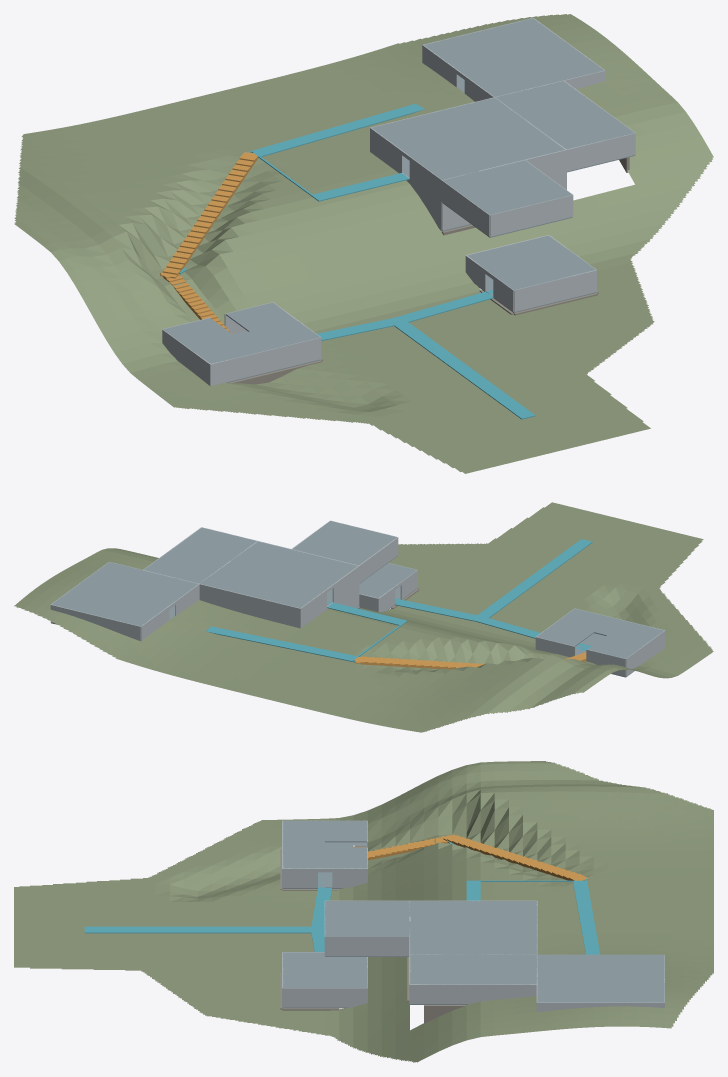
File: benched-terrain.glb
The picture shows the model from 3 angles, top to bottom: view 1: azimuth 30°, elevation 25°; view 2: azimuth 150°, elevation 25°; view 3: azimuth 270°, elevation 25°; orthographic projection. The views are drawn at different scales.
Parts seen in each view (by area): view 1: Saved editor stair bench terrain WLD-03, Ceiling cap gallery, Ceiling cap chamber, Ceiling cap fork, Ceiling cap alcove, Ceiling cap wash, Wall shelter S, Wall wash S, Wall alcove S, L12 support 0, Wall fork S, Ceiling cap shelter.003 (+12 smaller); view 2: Saved editor stair bench terrain WLD-03, Ceiling cap gallery, Ceiling cap chamber, Ceiling cap fork, Ceiling cap alcove, Wall gallery N, L12 support 0, Ceiling cap wash, Opened stair shell Wall shelter N, Wall chamber N, Ceiling cap shelter.003, Ceiling cap shelter.004 (+13 smaller); view 3: Saved editor stair bench terrain WLD-03, Ceiling cap gallery, Ceiling cap chamber, Ceiling cap fork, Ceiling cap alcove, Ceiling cap wash, Wall fork E, Wall alcove E, Wall wash E, L12 support 0, Ceiling cap shelter, Ceiling cap shelter.001 (+8 smaller).
Boxes of the visible parts, <box> form: Saved editor stair bench terrain WLD-03: <box>14,14,713,473</box>; Ceiling cap gallery: <box>371,97,564,179</box>; Ceiling cap chamber: <box>424,18,604,96</box>; Ceiling cap fork: <box>495,80,634,149</box>; Ceiling cap alcove: <box>443,160,572,214</box>; Ceiling cap wash: <box>467,235,595,290</box>; Wall shelter S: <box>210,337,320,385</box>; Wall wash S: <box>514,270,596,311</box>; Wall alcove S: <box>490,195,572,236</box>; L12 support 0: <box>246,103,424,156</box>; Wall fork S: <box>566,133,635,171</box>; Ceiling cap shelter.003: <box>226,302,296,331</box>; Saved editor stair bench terrain WLD-03: <box>14,502,713,732</box>; Ceiling cap gallery: <box>200,541,357,608</box>; Ceiling cap chamber: <box>51,562,197,626</box>; Ceiling cap fork: <box>144,527,256,583</box>; Ceiling cap alcove: <box>292,521,396,565</box>; Wall gallery N: <box>199,583,300,626</box>; L12 support 0: <box>206,626,357,662</box>; Ceiling cap wash: <box>359,563,416,598</box>; Opened stair shell Wall shelter N: <box>535,637,625,676</box>; Wall chamber N: <box>50,604,140,641</box>; Ceiling cap shelter.003: <box>536,623,593,646</box>; Ceiling cap shelter.004: <box>556,608,612,631</box>; Saved editor stair bench terrain WLD-03: <box>14,761,713,1062</box>; Ceiling cap gallery: <box>410,901,537,954</box>; Ceiling cap chamber: <box>537,954,664,1002</box>; Ceiling cap fork: <box>410,954,537,984</box>; Ceiling cap alcove: <box>325,901,409,936</box>; Ceiling cap wash: <box>282,952,367,987</box>; Wall fork E: <box>410,984,537,1003</box>; Wall alcove E: <box>325,937,409,956</box>; Wall wash E: <box>282,988,367,1007</box>; L12 support 0: <box>573,878,600,954</box>; Ceiling cap shelter: <box>325,820,367,842</box>; Ceiling cap shelter.001: <box>282,820,324,841</box>.
Bounding box in the file's own units: 91 × 12.65 × 99.
20 materials, 12 textured.
